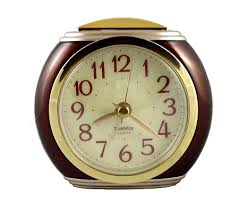alarm_clock: (32, 14, 213, 189), (32, 19, 213, 189), (42, 19, 213, 189)
